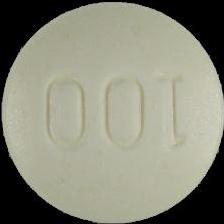61442-127: (0, 0, 224, 224)
